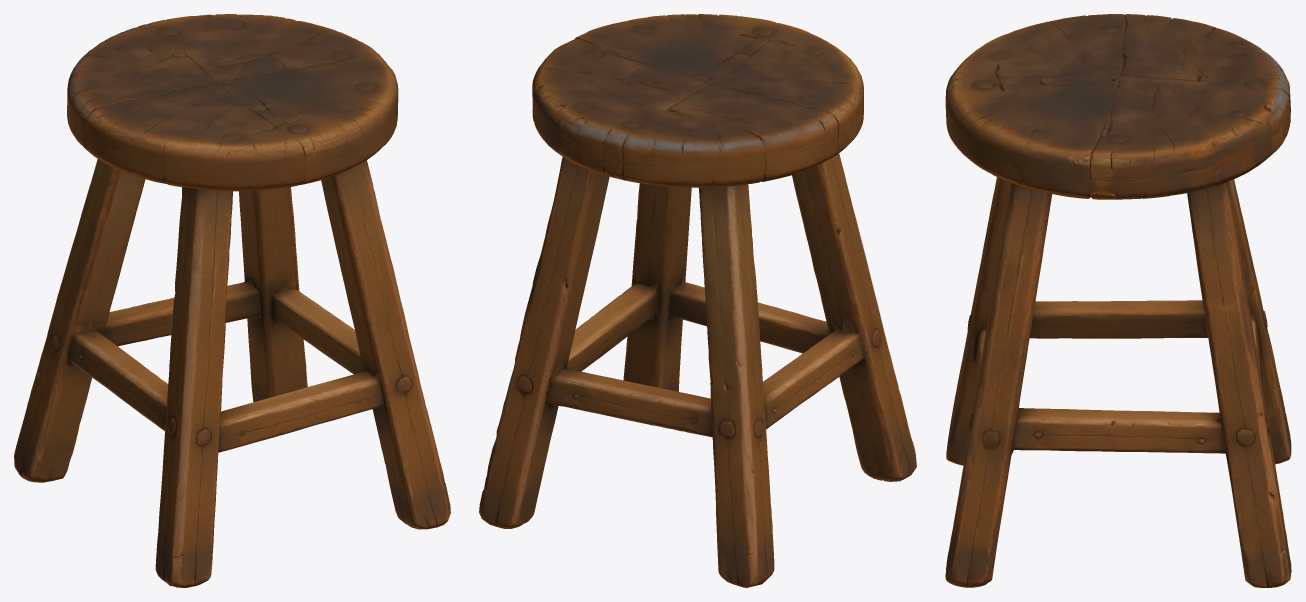
File: m_stool.glb
3 views of the same model, side by side, from view 1: azimuth 30°, elevation 25°; view 2: azimuth 150°, elevation 25°; view 3: azimuth 270°, elevation 25° (orthographic). The views are drawn at different scales.
Visible parts, largest first — view 1: tripo_node_04a47fd4-d141-45b0-b3b3-df940e0a2502; view 2: tripo_node_04a47fd4-d141-45b0-b3b3-df940e0a2502; view 3: tripo_node_04a47fd4-d141-45b0-b3b3-df940e0a2502.
Boxes of the visible parts, <box> form: tripo_node_04a47fd4-d141-45b0-b3b3-df940e0a2502: <box>14,14,450,587</box>; tripo_node_04a47fd4-d141-45b0-b3b3-df940e0a2502: <box>479,14,916,587</box>; tripo_node_04a47fd4-d141-45b0-b3b3-df940e0a2502: <box>945,14,1291,587</box>.
Bounding box in the file's own units: 0.7147 × 1 × 0.7144.
1 material, 1 textured.
